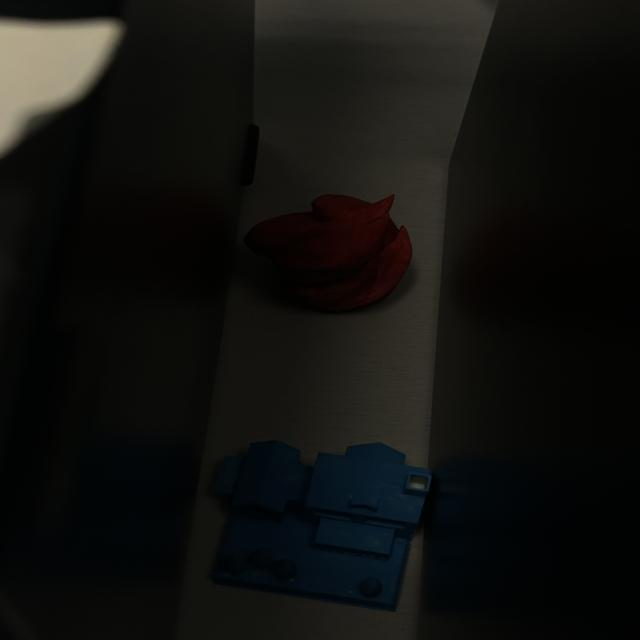fire: (241, 188, 417, 314)
house: (205, 433, 437, 612)
